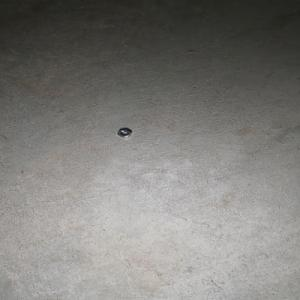Nut: (116, 128, 132, 137)
